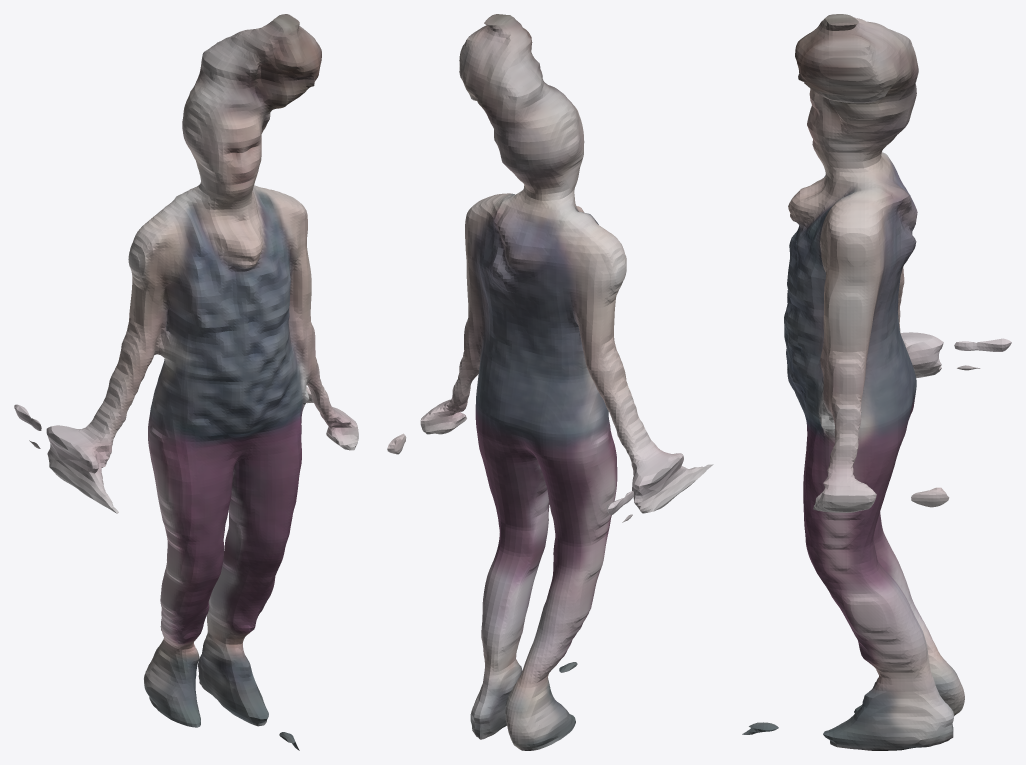
Rendered from 0071_tex.glb.
3 renders of one model, left to right at view 1: azimuth 30°, elevation 25°; view 2: azimuth 150°, elevation 25°; view 3: azimuth 270°, elevation 25°, orthographic. The views are drawn at different scales.
Parts seen in each view (by area): view 1: 0071_tex.obj; view 2: 0071_tex.obj; view 3: 0071_tex.obj.
Part boxes in pixels (x1,y1,x2,y2): 0071_tex.obj: (14,14,358,750); 0071_tex.obj: (387,14,713,750); 0071_tex.obj: (742,14,1011,750).
Bounding box in the file's own units: 0.3536 × 0.8866 × 0.2927.
